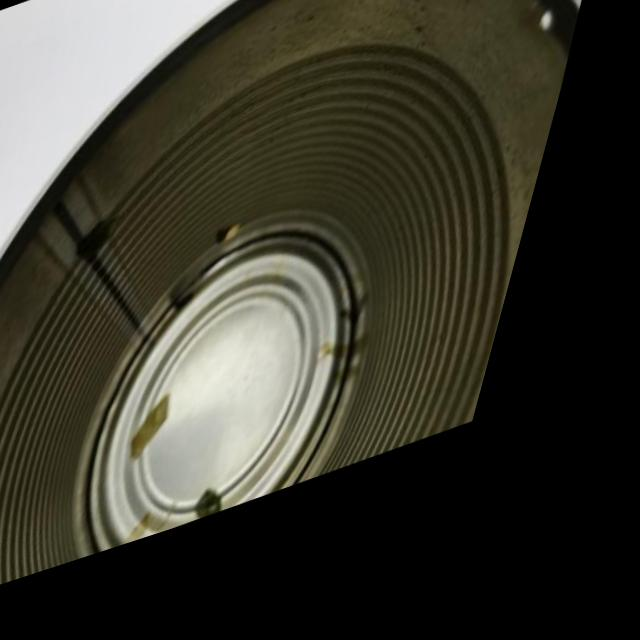metal: (0, 0, 630, 640)
